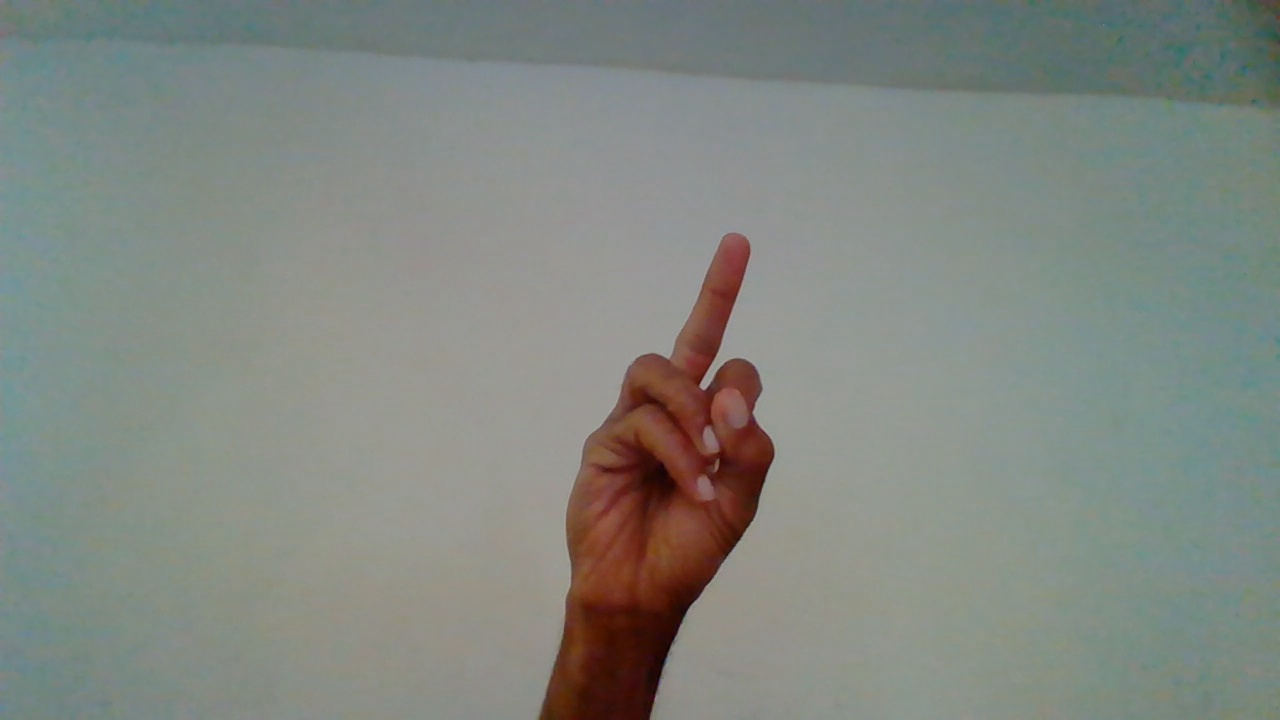he: (566, 231, 783, 683)
